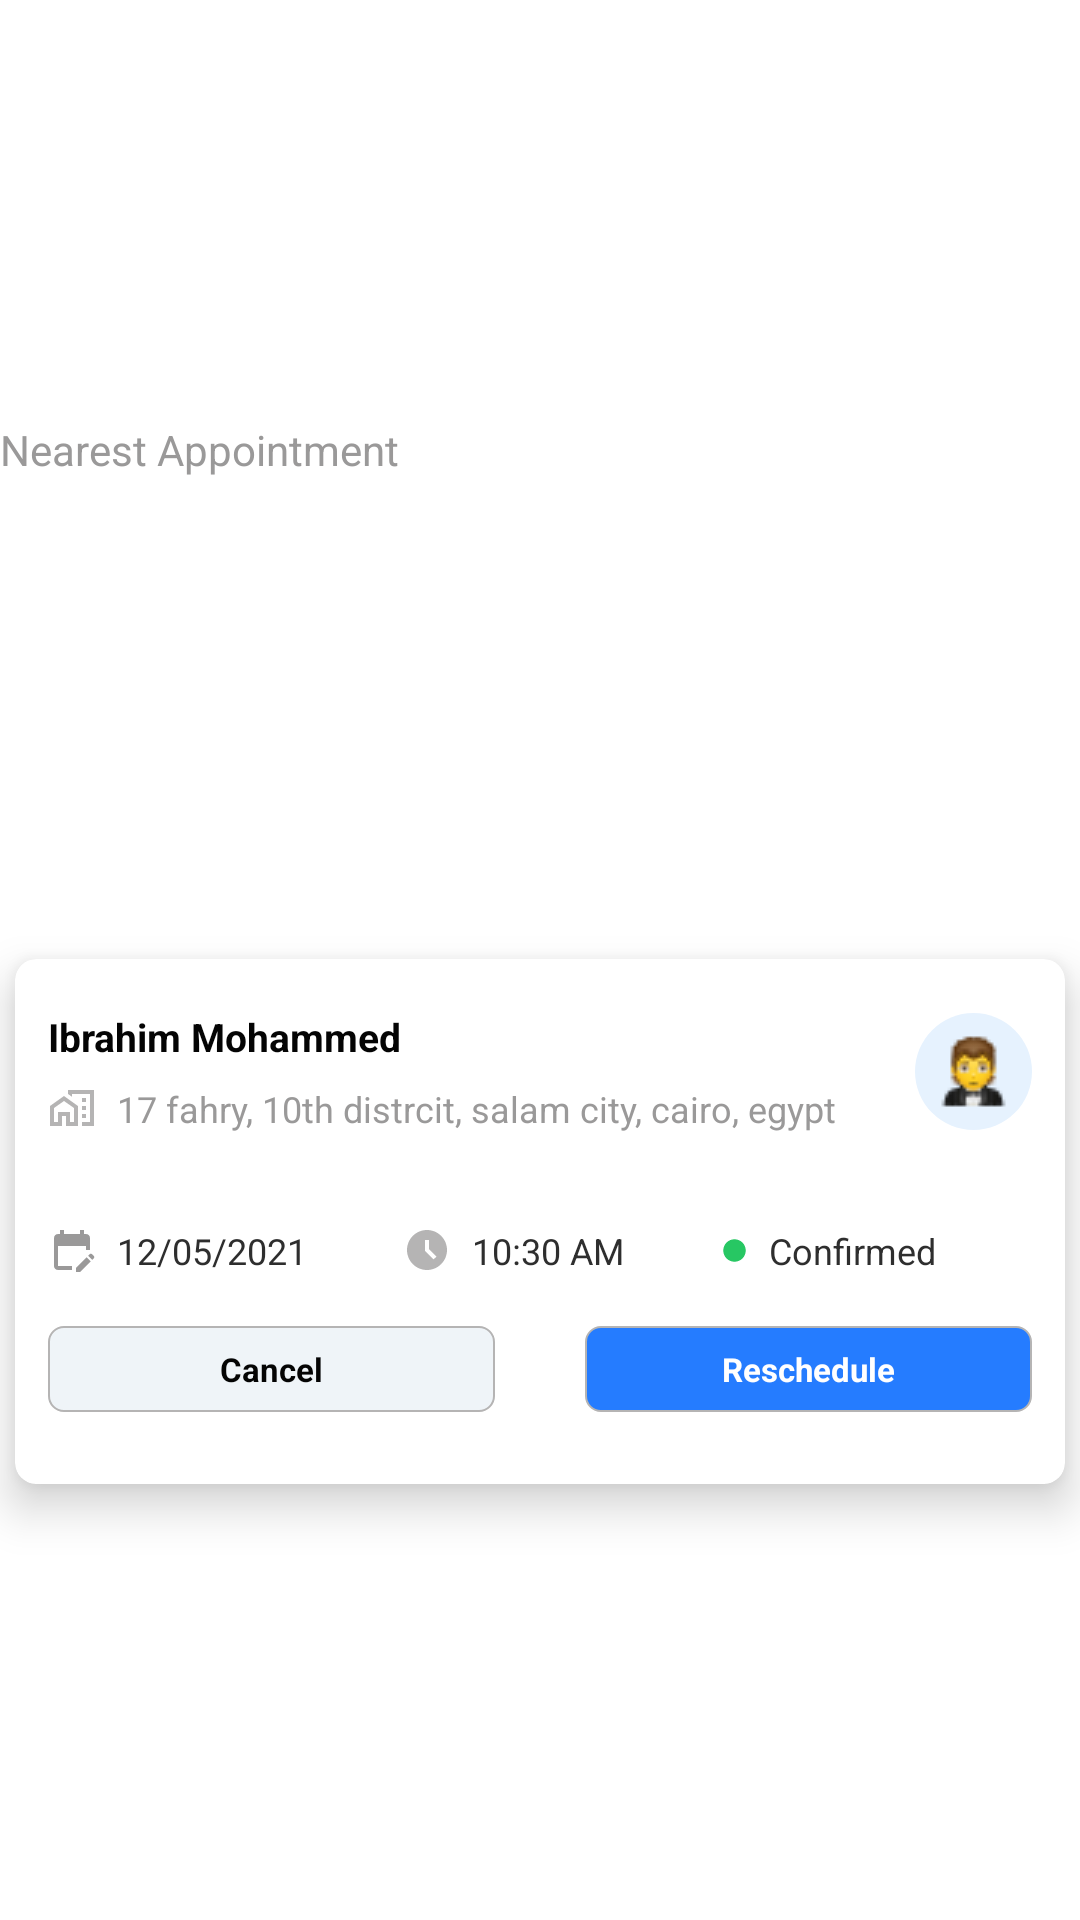

Where icons sit on this 1080×1920 app screen, as detection(x1, y1, x2, y2):
patient imaged: detection(915, 1013, 1032, 1130)
